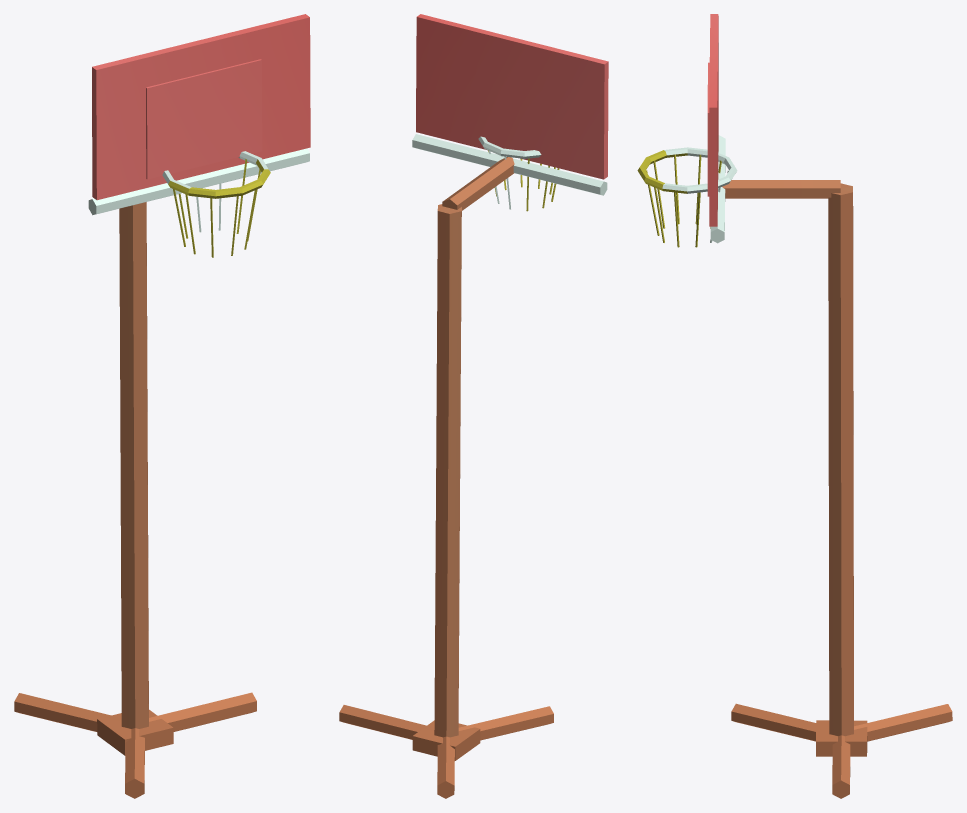
The model's file is arodesbasquet.fbx.
3 renders of one model, left to right at view 1: azimuth 30°, elevation 25°; view 2: azimuth 150°, elevation 25°; view 3: azimuth 270°, elevation 25°, orthographic. The views are drawn at different scales.
Visible parts, largest first — view 1: arco_basquet; view 2: arco_basquet; view 3: arco_basquet.
Part boxes in pixels (x1,y1,x2,y2): arco_basquet: [14, 14, 310, 798]; arco_basquet: [339, 14, 608, 798]; arco_basquet: [637, 14, 952, 798].
Bounding box in the file's own units: 117 × 371 × 154.
Materials: 1 (1 with a texture image).
